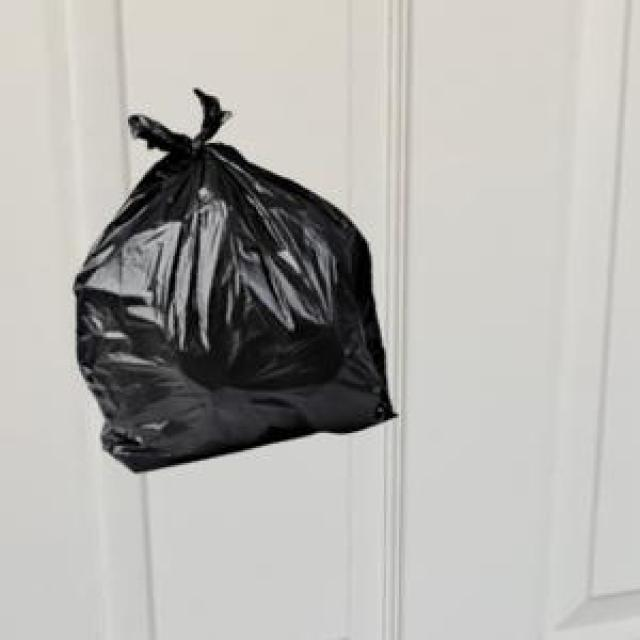waste: (75, 89, 394, 472)
